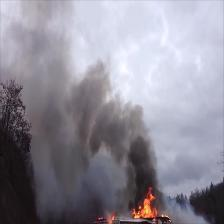fire: (127, 187, 162, 221)
